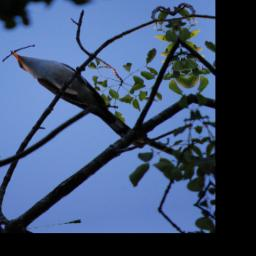Cuckoo: (7, 35, 130, 151)
